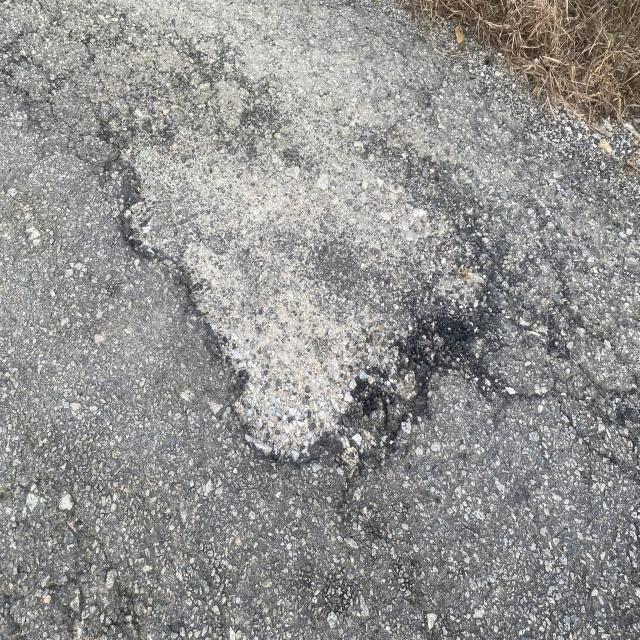Pothole: (45, 46, 529, 478)
